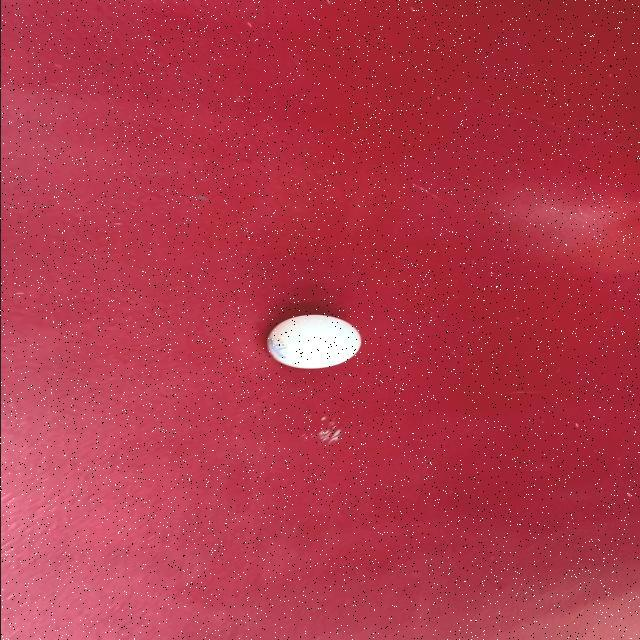ping-pong-ball: (264, 312, 364, 372)
